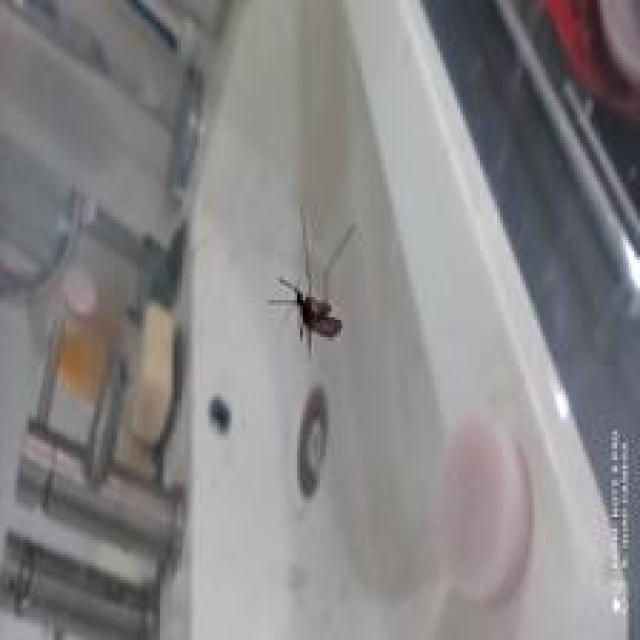Culex: (267, 203, 359, 357)
